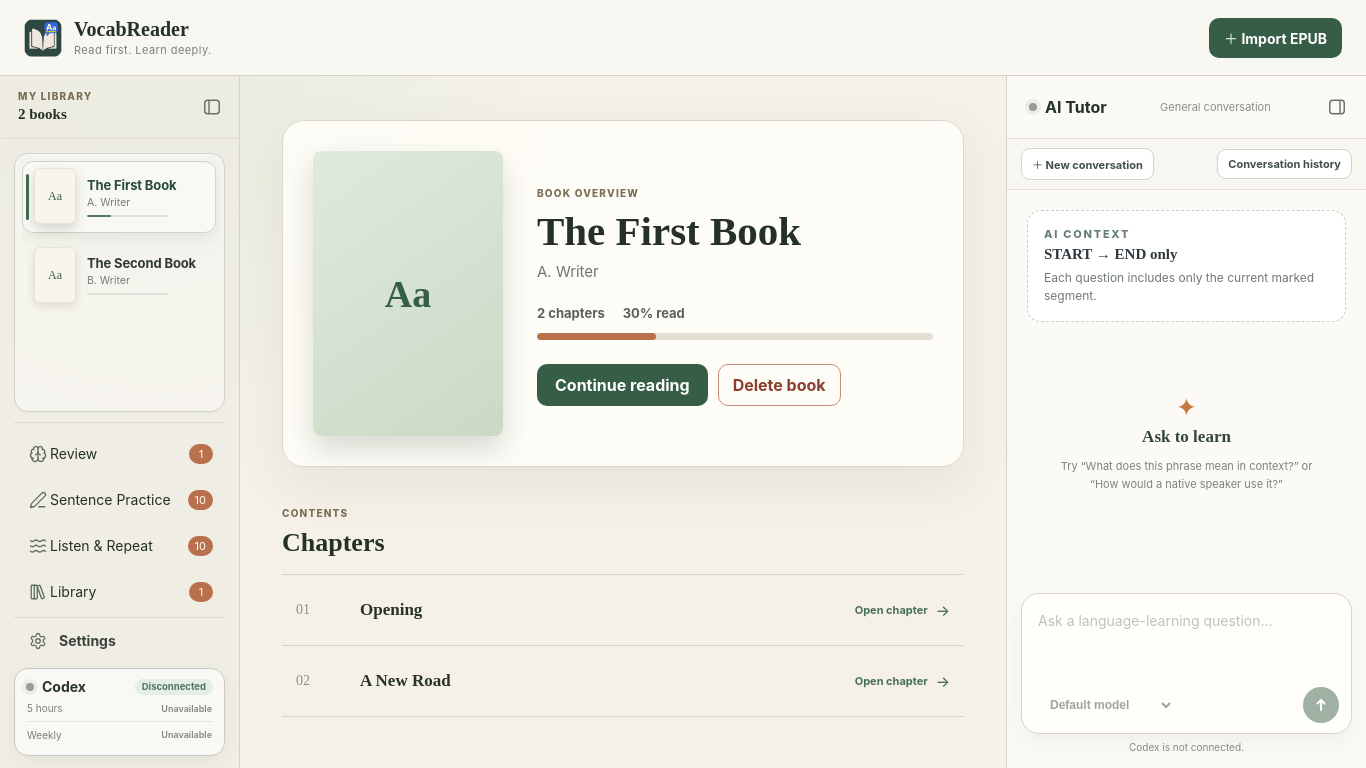
Test case: learning-language workspace settings › shows the installed application version in the Settings footer
The width and height of the screenshot is (1366, 768).
Click the button "Settings" at (120, 641), box [14,622,225,660]
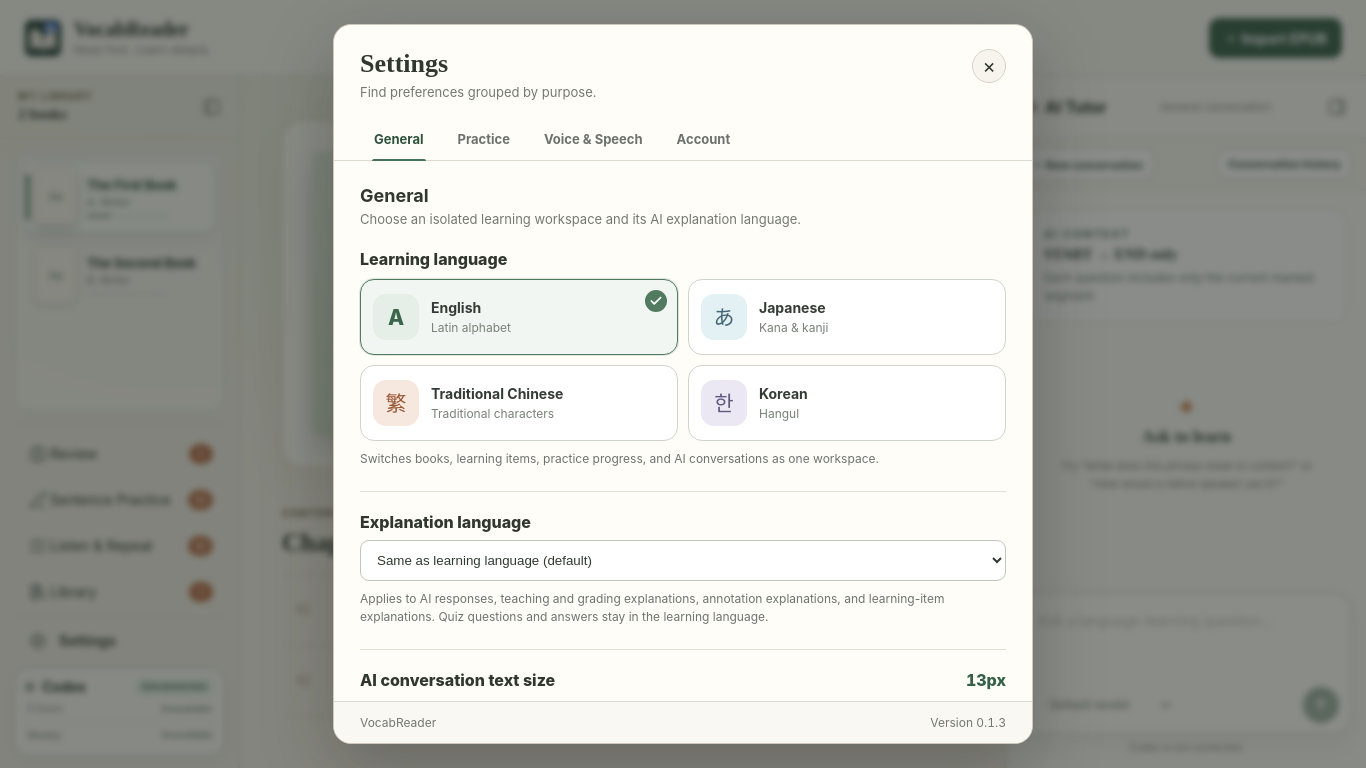
Result: the text named "VocabReader version" reads "Version 0.1.3" at [930,715,1006,730]
